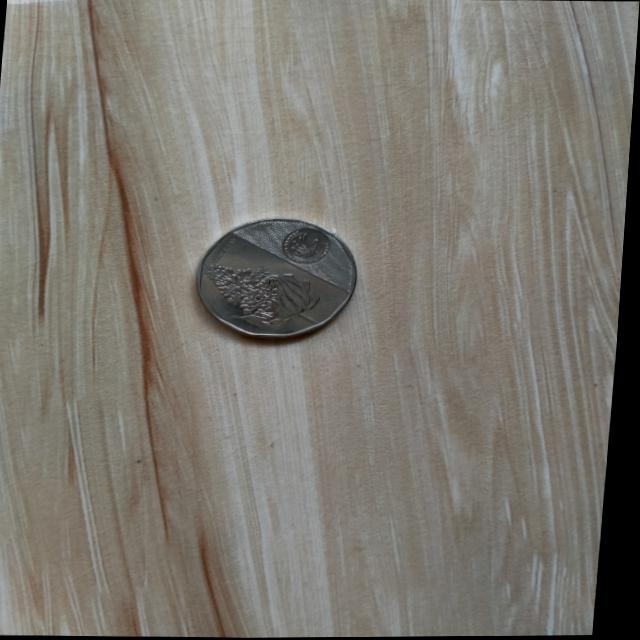10_New_Back: (192, 255, 346, 339)
